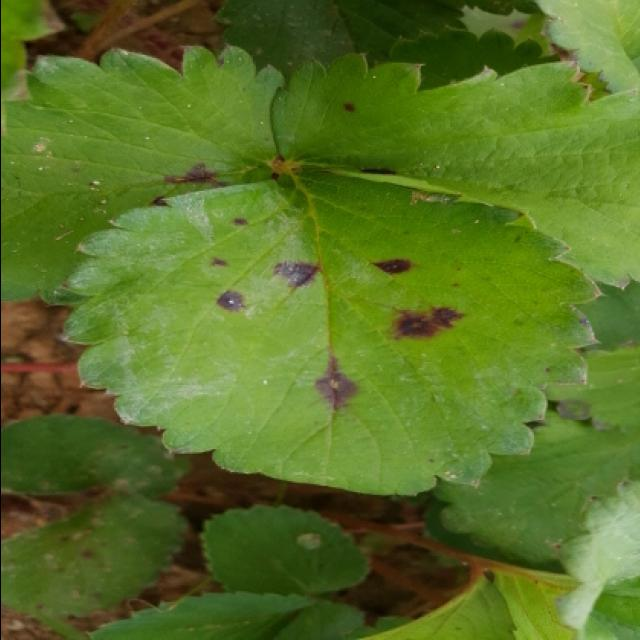Leaf Spot: (61, 162, 605, 498), (268, 51, 640, 291), (2, 41, 286, 309), (2, 483, 187, 618)
